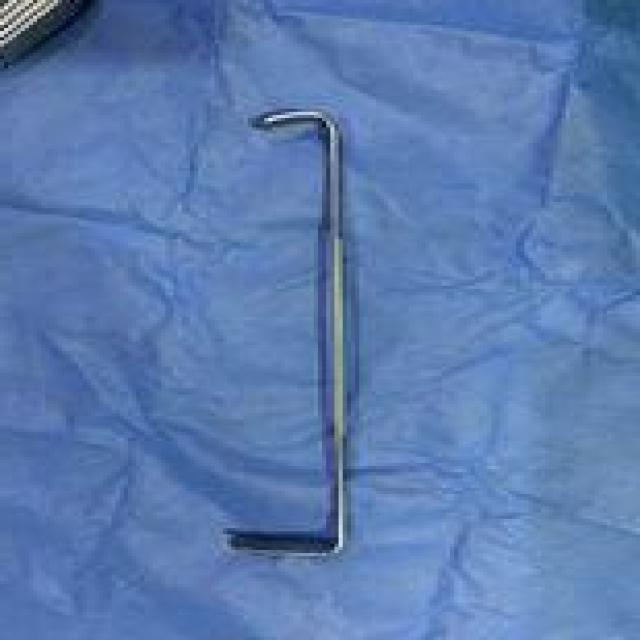Army_navy: (218, 102, 359, 566)
